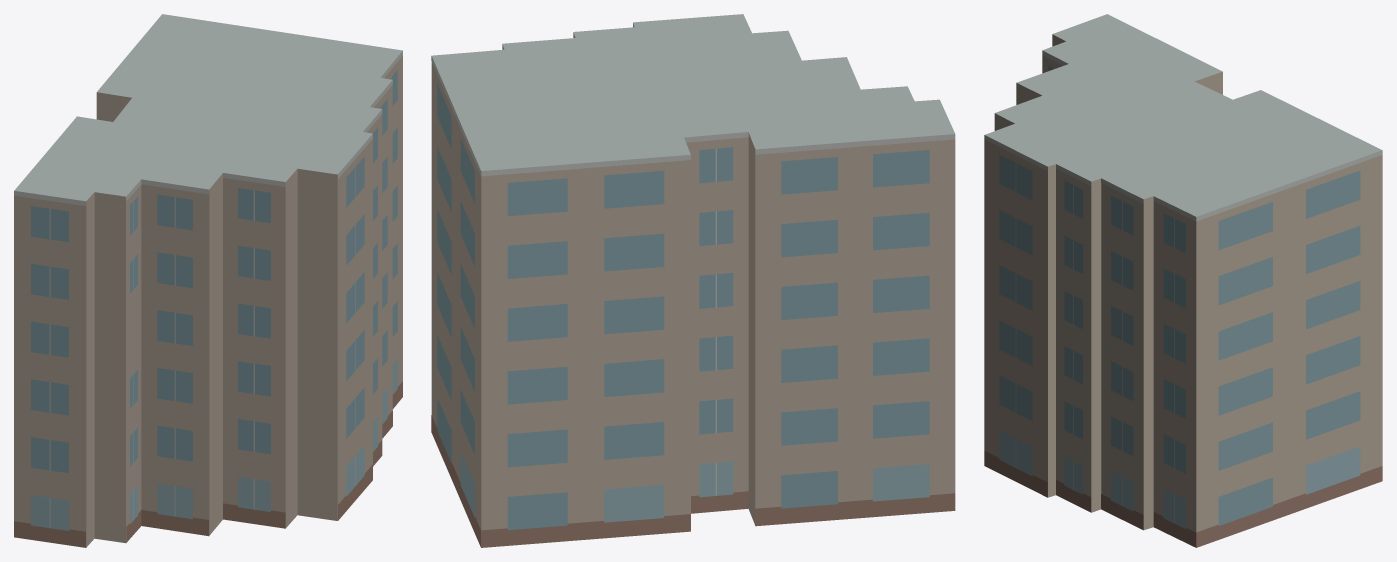
File: survey-upis-32669451.glb
The picture shows the model from 3 angles, left to right: view 1: azimuth 30°, elevation 25°; view 2: azimuth 150°, elevation 25°; view 3: azimuth 270°, elevation 25°; orthographic projection. The views are drawn at different scales.
Parts seen in each view (by area): view 1: survey-upis-32669451.tmp; view 2: survey-upis-32669451.tmp; view 3: survey-upis-32669451.tmp.
Part boxes in pixels (x1,y1,x2,y2): survey-upis-32669451.tmp: (14,14,402,547); survey-upis-32669451.tmp: (431,14,955,547); survey-upis-32669451.tmp: (984,14,1382,547).
Size of the model in its own units: 22.75 by 17.3 by 18.86.
